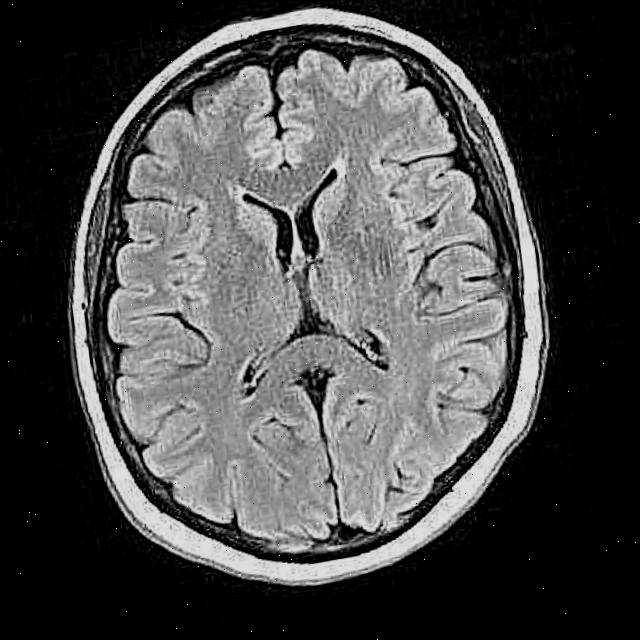NoTumor: (18, 0, 598, 628)
